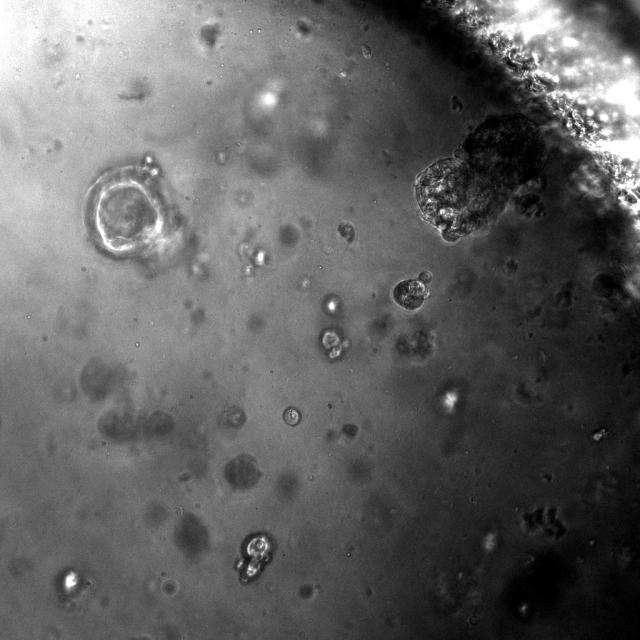organoid: (415, 113, 548, 242), (82, 154, 182, 260), (234, 532, 274, 584), (392, 270, 432, 310), (521, 507, 566, 540), (224, 453, 261, 490), (320, 328, 348, 361), (592, 271, 623, 297), (338, 220, 355, 242), (283, 406, 301, 425)
